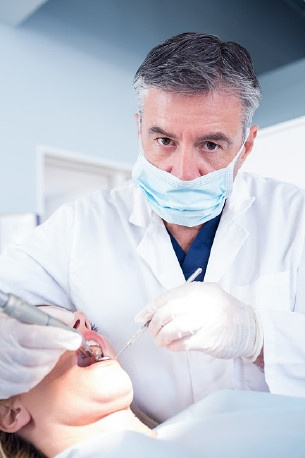Mask: (138, 121, 243, 226)
